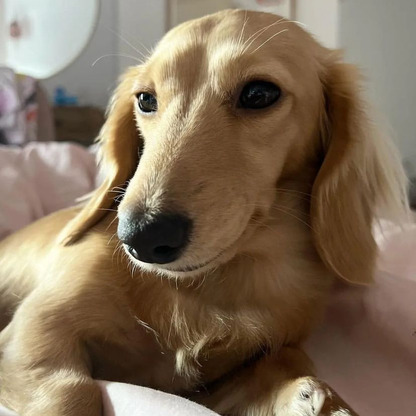dachshund: (60, 24, 379, 402)
